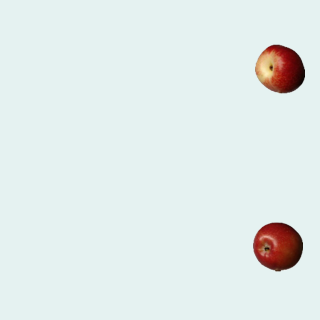Apple Braeburn: (252, 221, 302, 271)
Nectarine: (254, 43, 304, 93)
